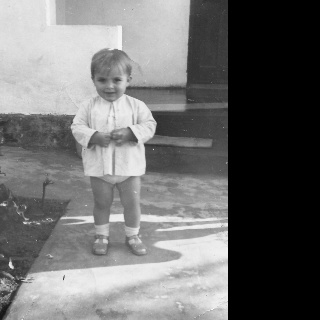without_mask: (90, 47, 133, 101), (91, 64, 132, 99)
